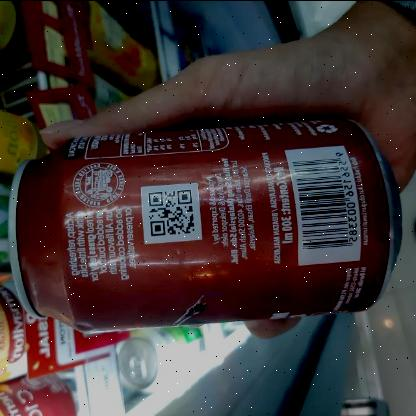Can: (7, 116, 401, 328)
